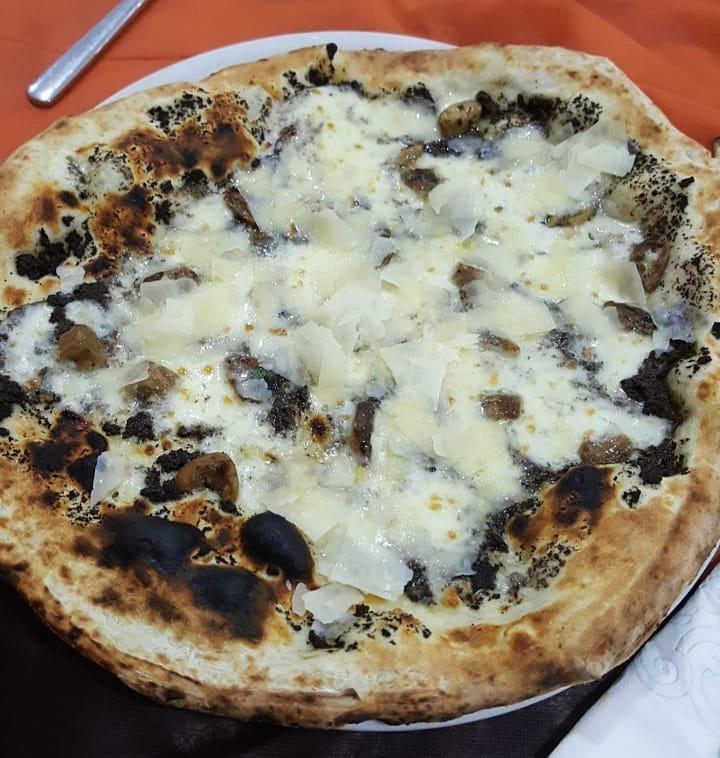Cheese: (269, 460, 505, 558), (408, 388, 615, 467), (403, 308, 620, 381), (409, 229, 610, 305), (409, 153, 561, 224), (260, 239, 405, 302), (252, 310, 399, 365), (153, 222, 253, 295), (306, 103, 405, 176), (155, 369, 263, 434), (103, 300, 231, 351), (316, 178, 399, 241), (229, 169, 313, 229)
Mushroom: (379, 136, 450, 194), (172, 446, 241, 503), (216, 183, 273, 232), (340, 396, 379, 458), (58, 328, 110, 366), (446, 258, 482, 305), (475, 392, 530, 419), (473, 329, 526, 357)
Pizza: (0, 43, 720, 725)
